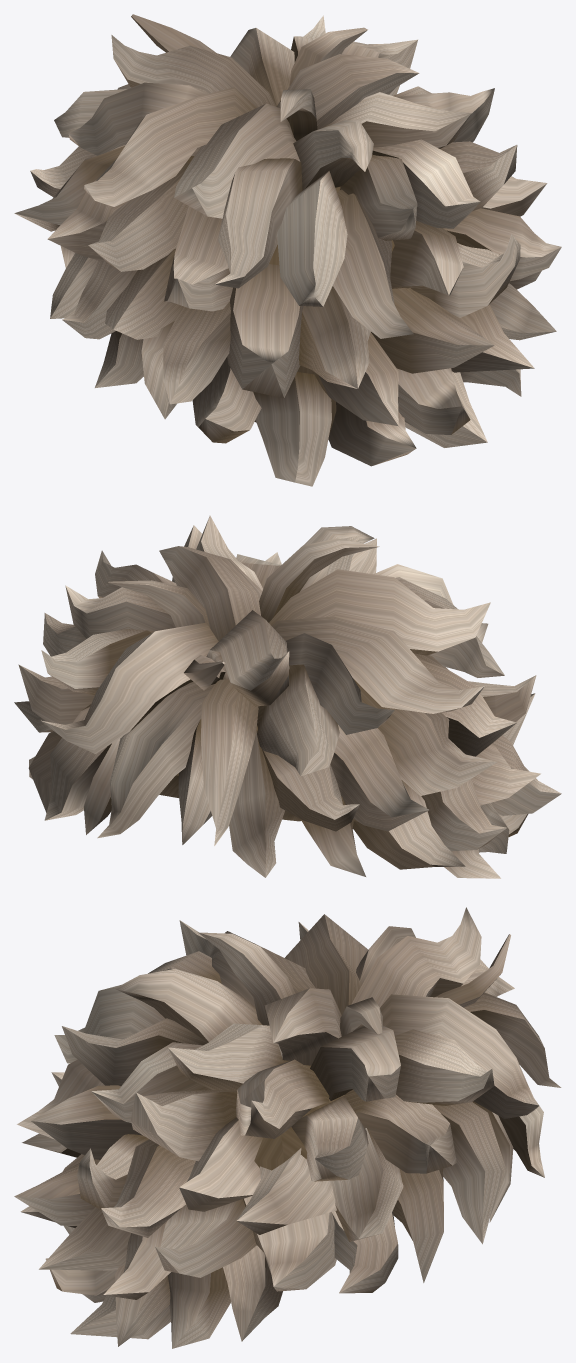
The picture shows the model from 3 angles, top to bottom: view 1: azimuth 30°, elevation 25°; view 2: azimuth 150°, elevation 25°; view 3: azimuth 270°, elevation 25°; orthographic projection. The views are drawn at different scales.
Parts seen in each view (by area): view 1: geometry_0; view 2: geometry_0; view 3: geometry_0.
Part boxes in pixels (x1,y1,x2,y2): geometry_0: (14, 14, 561, 486); geometry_0: (14, 515, 561, 878); geometry_0: (14, 907, 561, 1348).
Bounding box in the file's own units: 1.85 × 1.29 × 1.85.
1 material, 1 textured.
